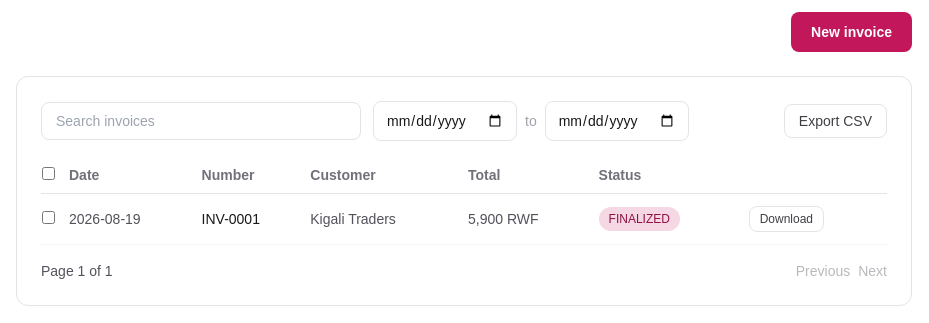
Test: Documents › sorts by date when the Date header button is clicked
The width and height of the screenshot is (929, 323).
Expected: the link "INV-0001" is shown, top-left (202, 211), bottom-right (260, 227)
Click the button "Date" at (84, 175), box top-left (69, 165), bottom-right (99, 185)
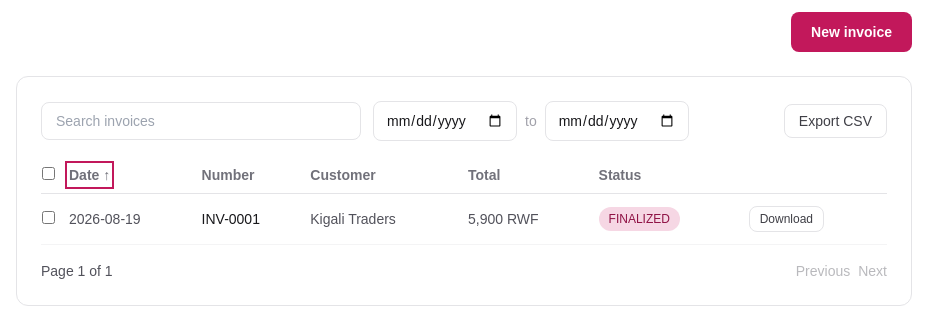
Expected: the button "Date ↑" is shown, top-left (69, 165), bottom-right (110, 185)
